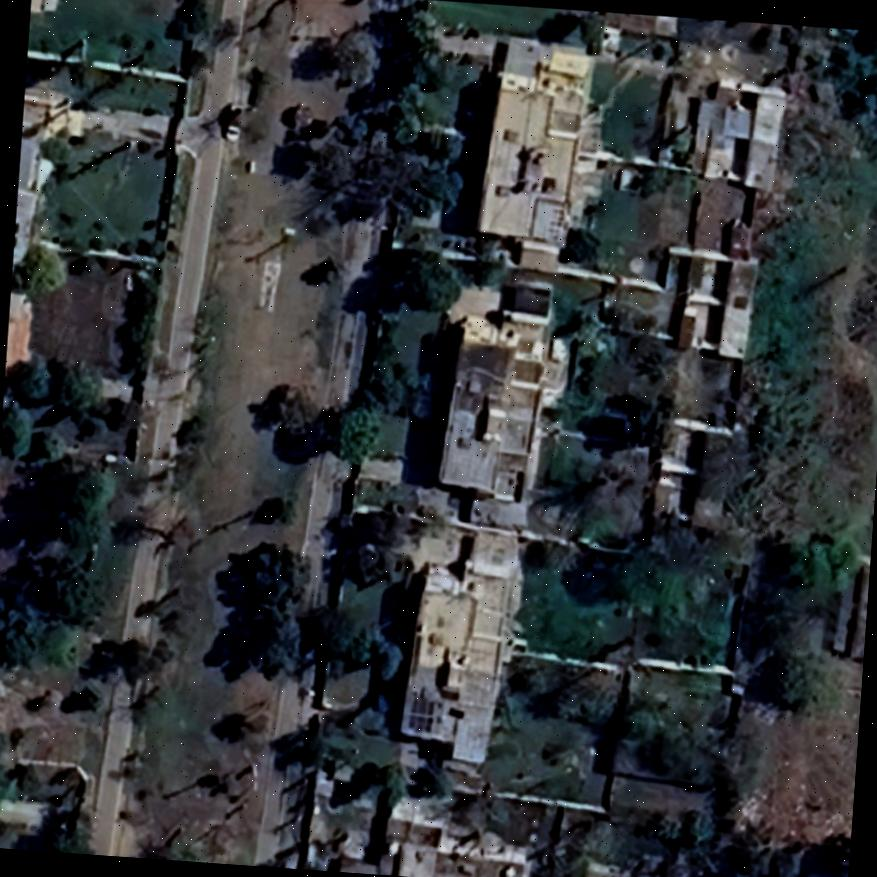Solarpanel: (404, 694, 436, 734)
